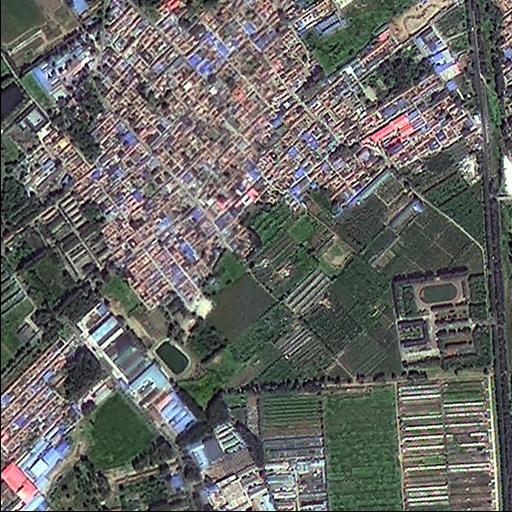school: (390, 270, 492, 359)
